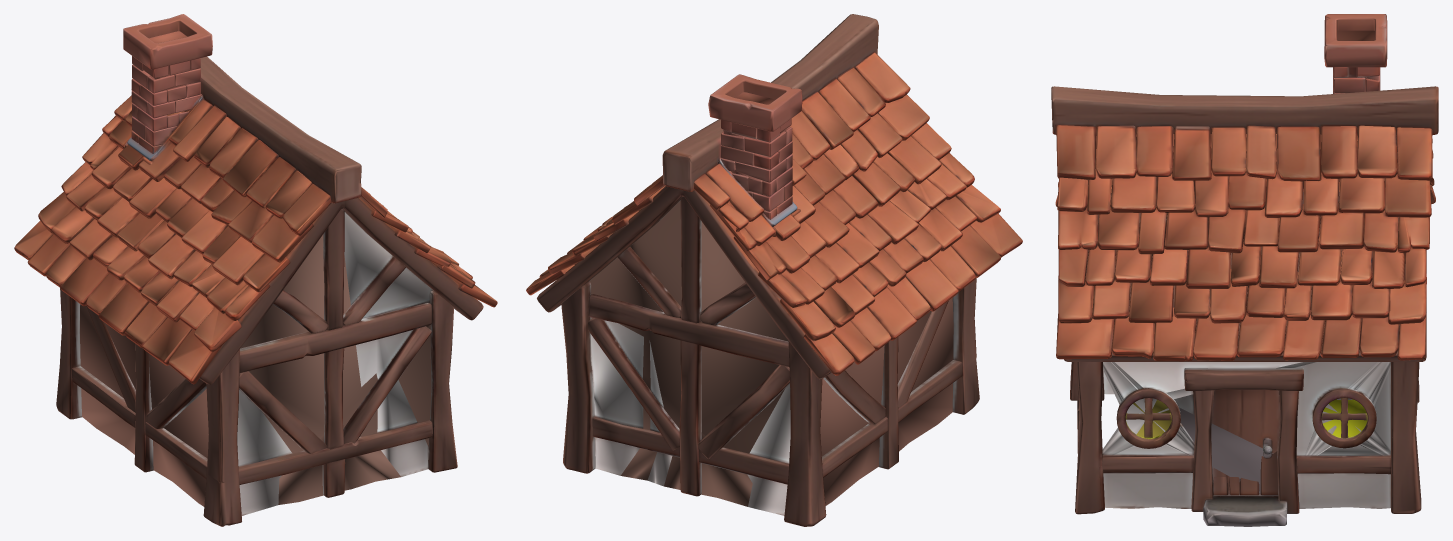
The picture shows the model from 3 angles, left to right: view 1: azimuth 30°, elevation 25°; view 2: azimuth 150°, elevation 25°; view 3: azimuth 270°, elevation 25°; orthographic projection. The views are drawn at different scales.
Parts seen in each view (by area): view 1: tripo_node_2cb01040; view 2: tripo_node_2cb01040; view 3: tripo_node_2cb01040.
Part boxes in pixels (x1=…): tripo_node_2cb01040: x1=14, y1=14, x2=497, y2=526; tripo_node_2cb01040: x1=526, y1=14, x2=1022, y2=526; tripo_node_2cb01040: x1=1051, y1=14, x2=1438, y2=526.
Size of the model in its own units: 0.8804 by 0.9995 by 0.8696.
Materials: 1 (1 with a texture image).
